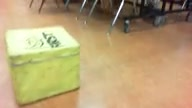cube: (4, 25, 81, 106)
